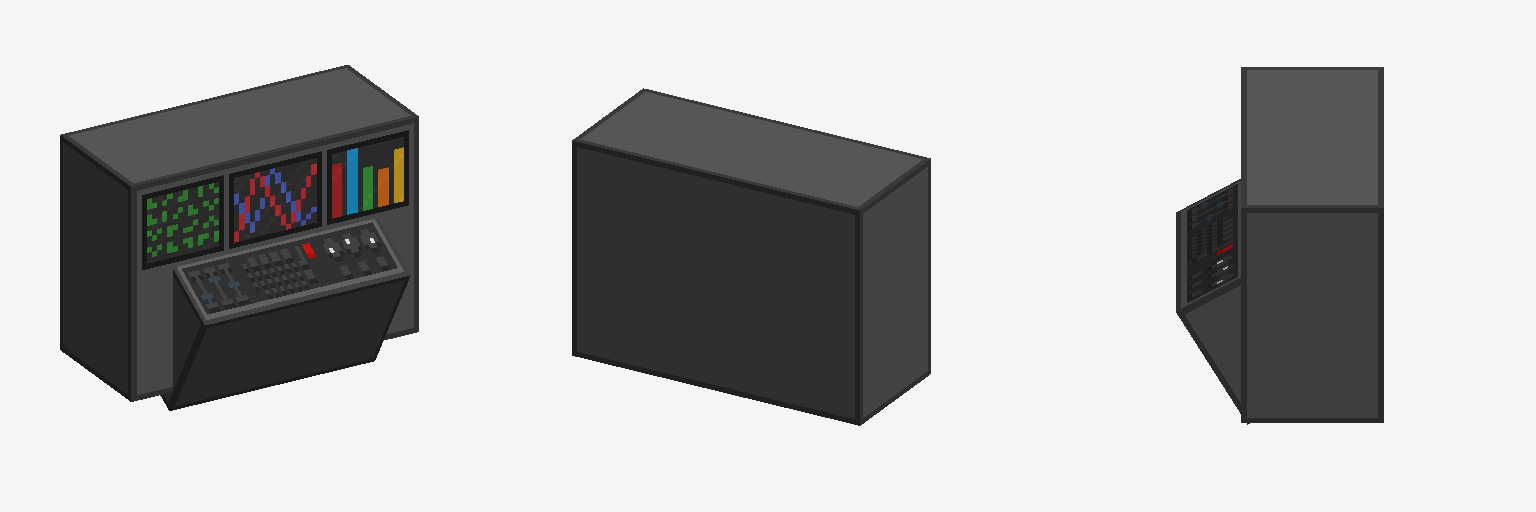
3 renders of one model, left to right at view 1: azimuth 30°, elevation 25°; view 2: azimuth 150°, elevation 25°; view 3: azimuth 270°, elevation 25°, orthographic.
Visible parts, largest first — view 1: cube; view 2: cube; view 3: cube.
Boxes of the visible parts, x1,y1,x2,y2 form: cube: [60, 65, 418, 410]; cube: [572, 88, 930, 425]; cube: [1176, 67, 1383, 424].
Size of the model in its own units: 0.4375 by 0.3438 by 0.2729.
Materials: 2 (2 with a texture image).